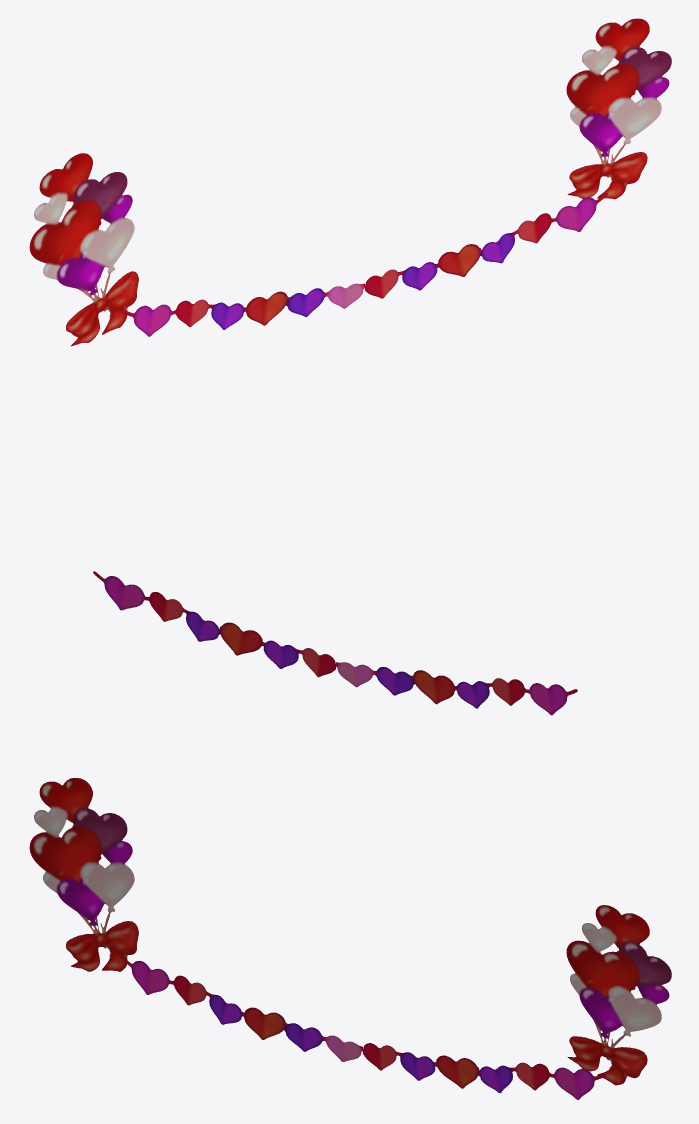
File: heart_banner.glb
3 renders of one model, top to bottom at view 1: azimuth 30°, elevation 25°; view 2: azimuth 150°, elevation 25°; view 3: azimuth 330°, elevation 25°, orthographic.
Visible parts, largest first — view 1: balloonsL, balloonsR, bannerJoint; view 2: bannerJoint; view 3: balloonsL, balloonsR, bannerJoint.
Boxes of the visible parts, bbox=[...] form: balloonsL: bbox=[29, 153, 138, 346]; balloonsR: bbox=[566, 18, 671, 199]; bannerJoint: bbox=[123, 192, 607, 336]; bannerJoint: bbox=[93, 571, 577, 715]; balloonsL: bbox=[29, 778, 138, 971]; balloonsR: bbox=[566, 905, 671, 1085]; bannerJoint: bbox=[121, 956, 605, 1099].
Bounding box in the file's own units: 16.48 × 5.89 × 0.0427.
Materials: 2 (2 with a texture image).
